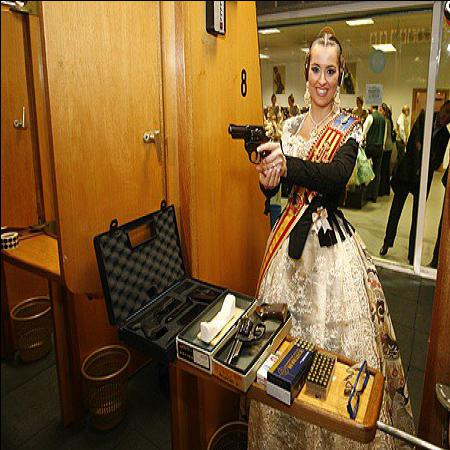Pistol: (225, 118, 284, 192)
